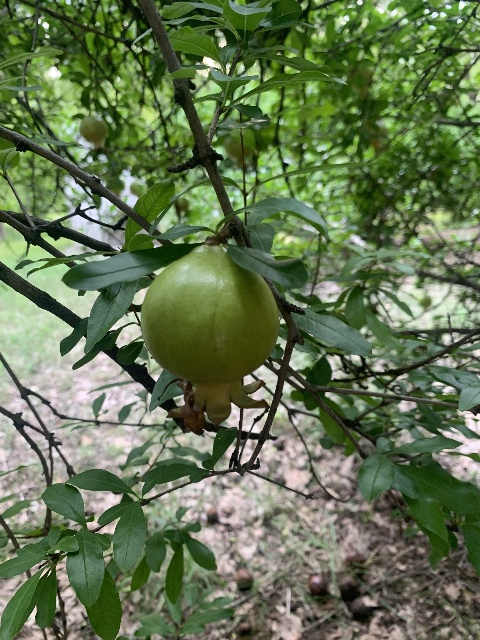mid-growth: (140, 245, 278, 423), (79, 117, 110, 154), (223, 136, 253, 173)
